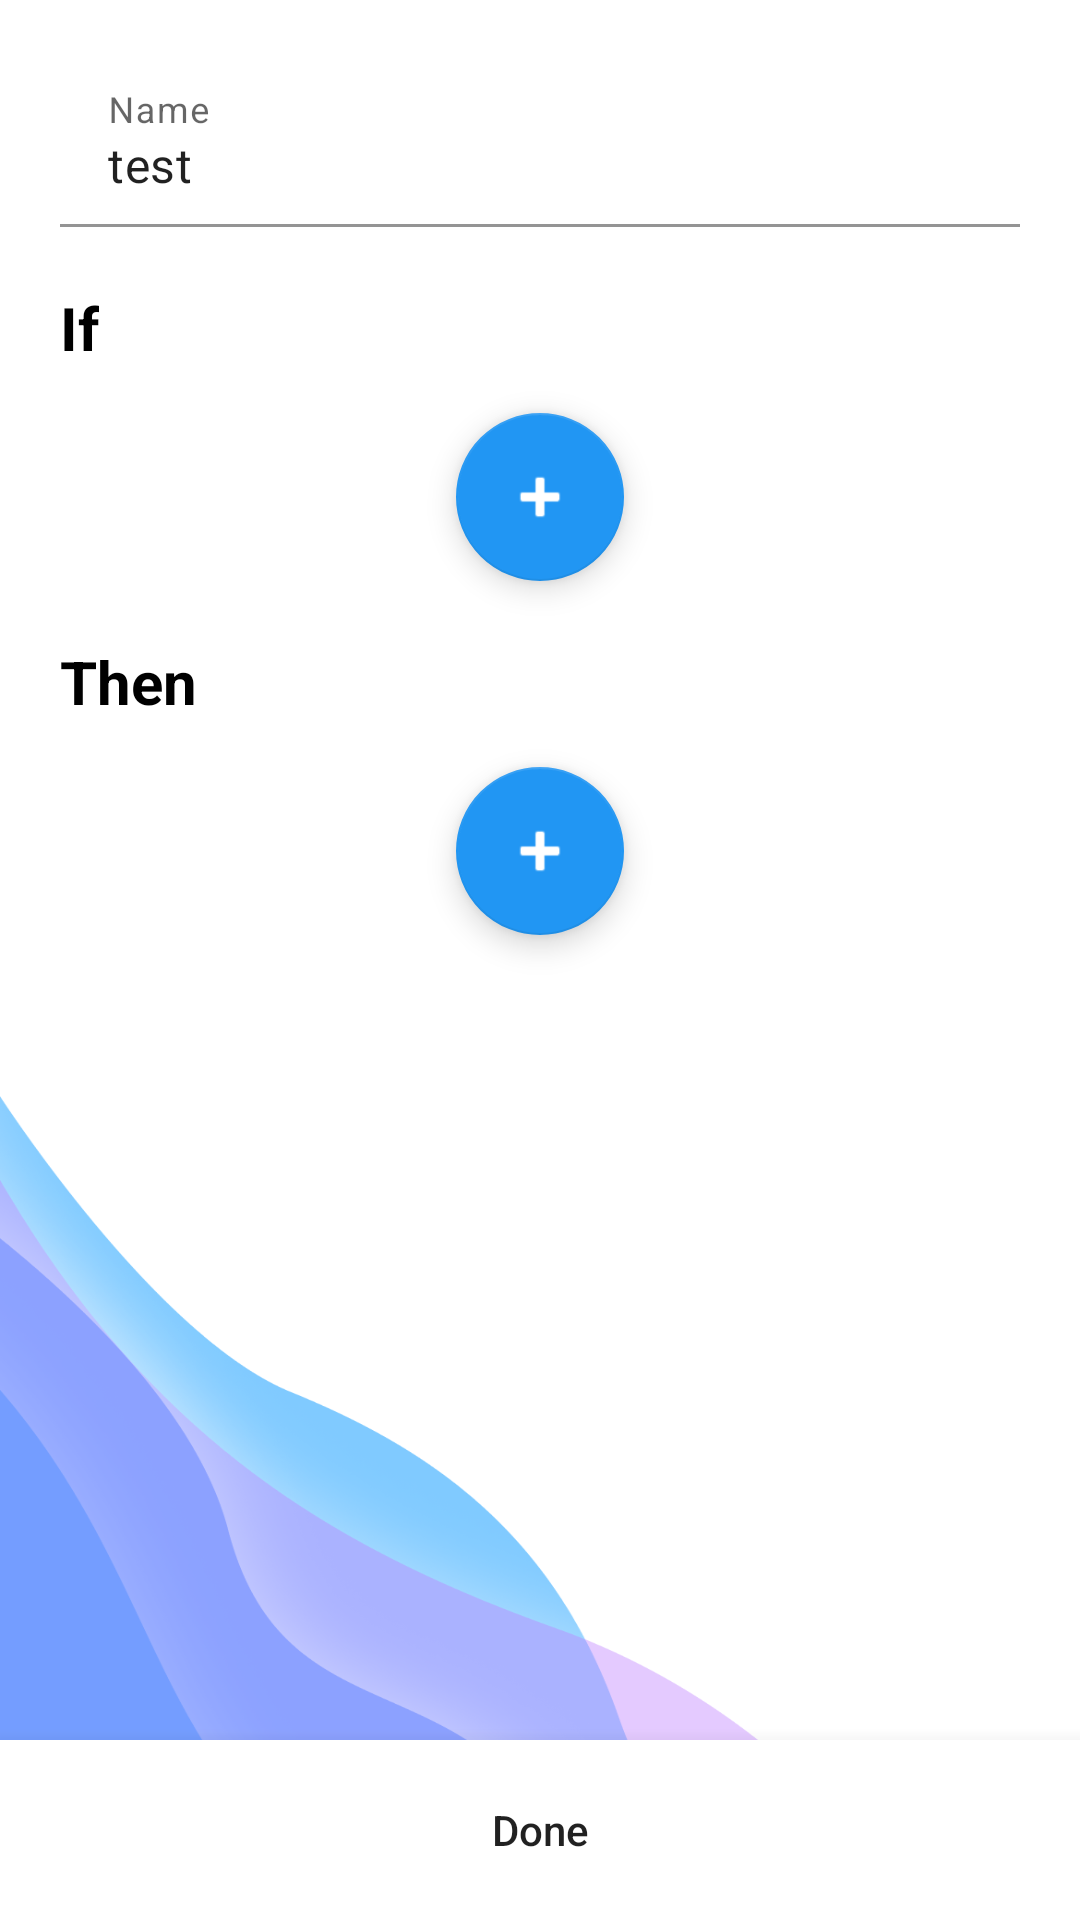

Icon bounding boxes for this 1080px x 1920px phone screenshot, format (x1, y1, x2, y2):
Add a new device: (456, 413, 624, 581), (456, 767, 624, 935)
